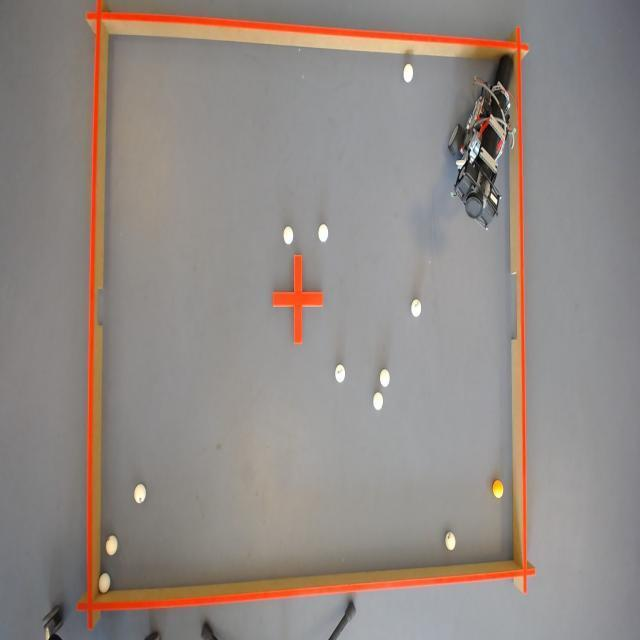orange: (494, 479, 506, 499)
robot: (449, 64, 514, 233)
white: (98, 571, 110, 595), (133, 483, 146, 505), (282, 224, 294, 246), (106, 534, 118, 556), (444, 532, 456, 552), (315, 222, 327, 242), (410, 298, 422, 318), (402, 62, 414, 82), (334, 364, 346, 383), (379, 369, 391, 387), (372, 392, 382, 412)
